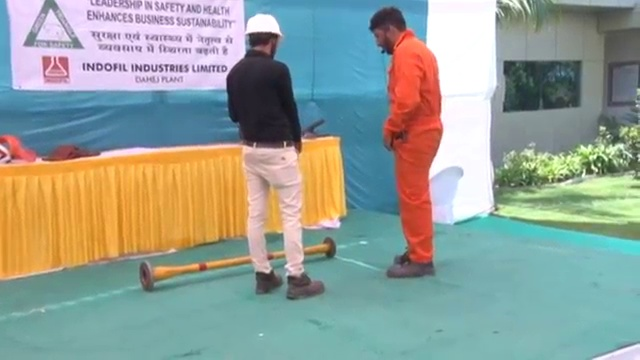helmet: (242, 12, 285, 38)
helmet_off: (368, 7, 409, 55)
helmet_on: (241, 11, 287, 57)
person: (224, 10, 326, 300), (367, 4, 442, 280)
